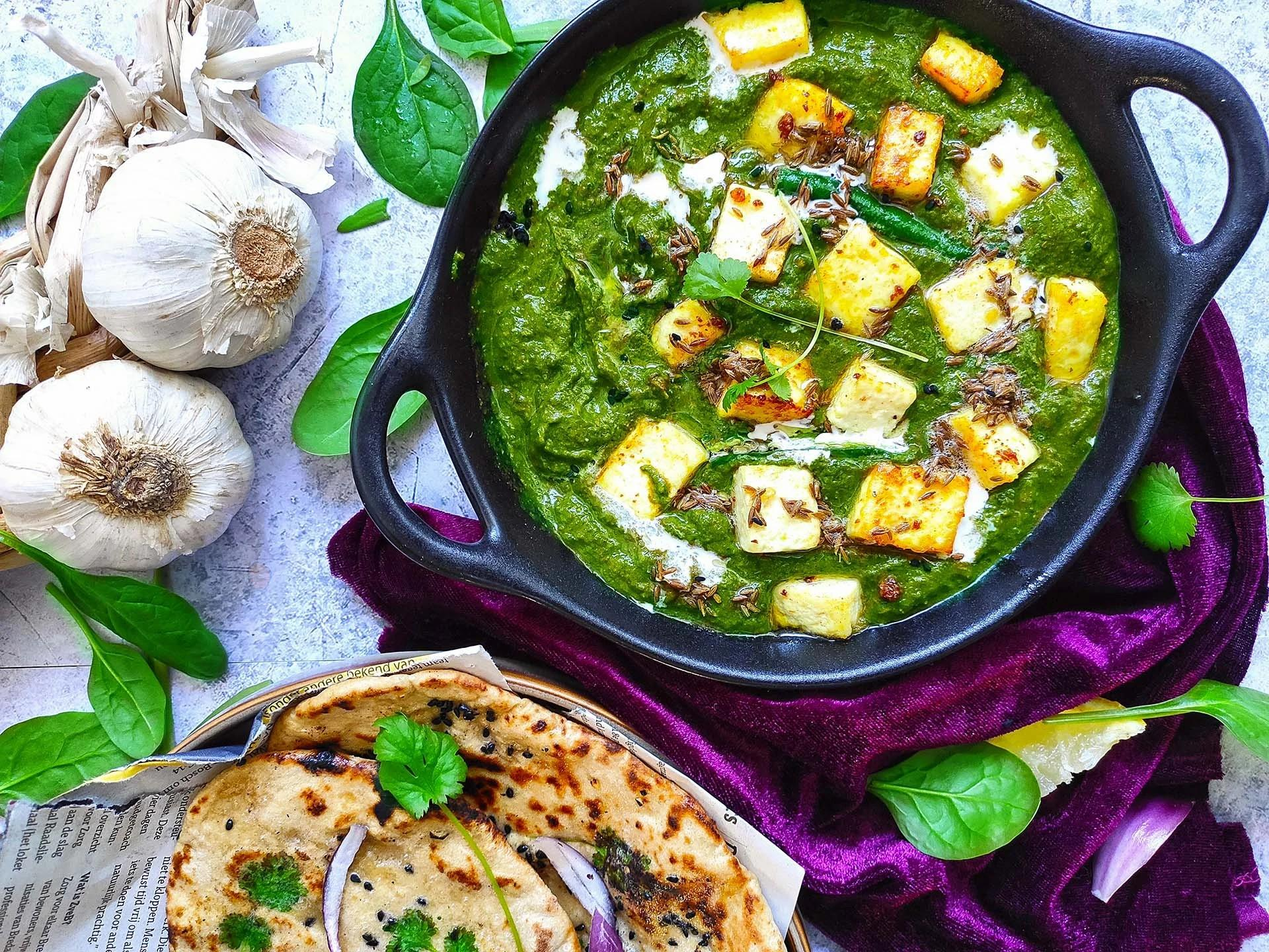PalakPaneer: (472, 0, 1122, 646)
